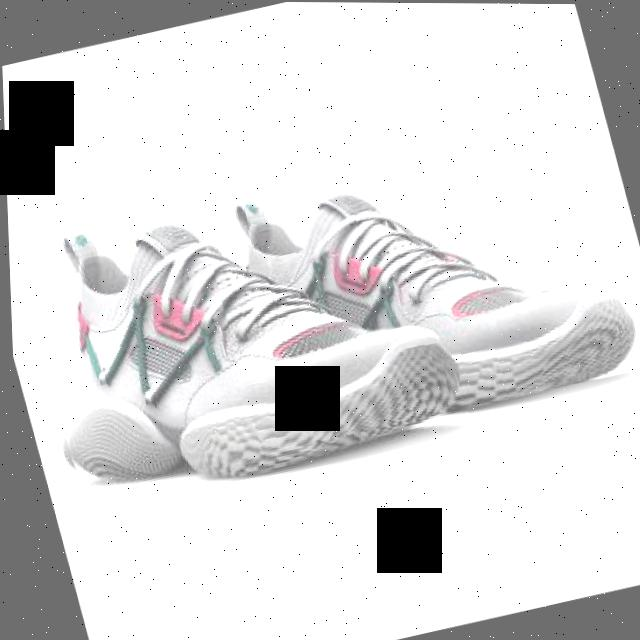shoe: (5, 157, 471, 516), (193, 120, 640, 456)
